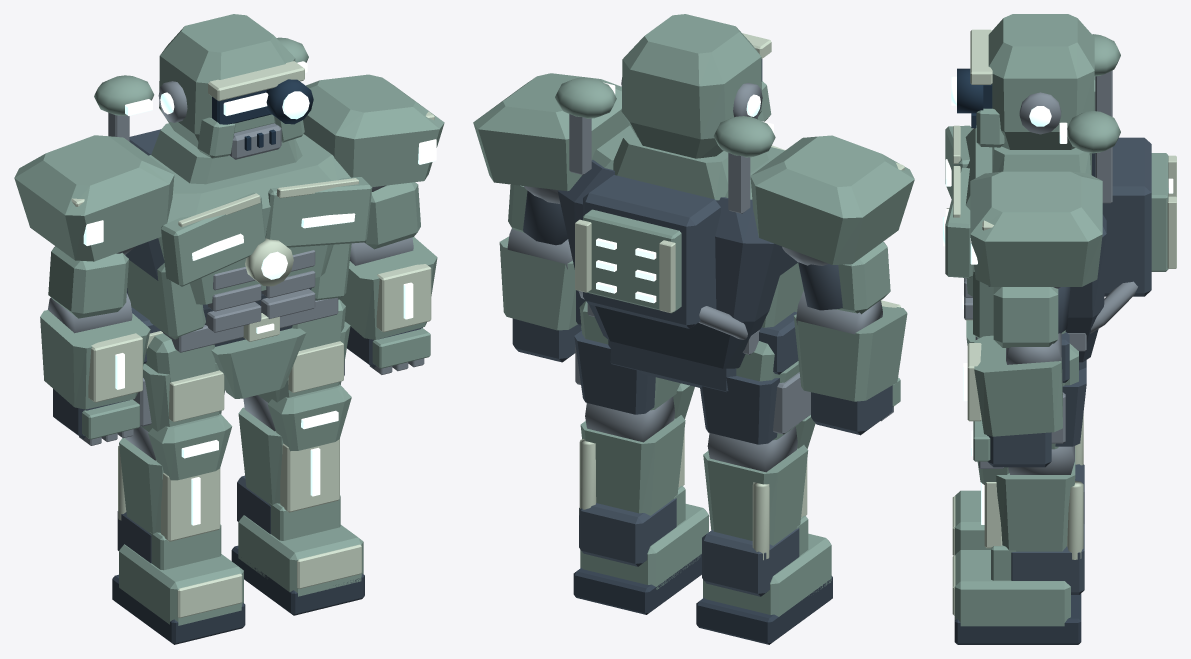
Rendered from bot_sentinel.glb.
3 views of the same model, side by side, from view 1: azimuth 30°, elevation 25°; view 2: azimuth 150°, elevation 25°; view 3: azimuth 270°, elevation 25° (orthographic). The views are drawn at different scales.
Visible parts, largest first — view 1: shoulder_pauldron_63, shoulder_pauldron_78, helmet_94, thorax_carapace_2, pectoral_plate_13, pectoral_plate_3, forearm_bracer_69, boot_toe_31, boot_toe_47, upper_arm_plate_67, codpiece_24, neck_guard_collar_93 (+51 smaller); view 2: shoulder_pauldron_63, helmet_94, torso_1, shoulder_pauldron_78, reactor_pack_108, forearm_bracer_69, shin_armor_51, shin_armor_35, reactor_armored_cover_109, forearm_bracer_84, neck_guard_collar_93, boot_ankle_49 (+33 smaller); view 3: shoulder_pauldron_78, helmet_94, reactor_pack_108, forearm_bracer_84, boot_toe_47, shin_armor_51, upper_arm_plate_82, boot_sole_46, boot_ankle_49, torso_1, neck_guard_collar_93, pectoral_plate_13 (+29 smaller).
Part boxes in pixels (x1=…): shoulder_pauldron_63: x1=14, y1=135, x2=174, y2=261; shoulder_pauldron_78: x1=303, y1=74, x2=444, y2=187; helmet_94: x1=159, y1=14, x2=295, y2=147; thorax_carapace_2: x1=149, y1=134, x2=350, y2=304; pectoral_plate_13: x1=265, y1=177, x2=372, y2=247; pectoral_plate_3: x1=161, y1=192, x2=265, y2=286; forearm_bracer_69: x1=40, y1=310, x2=150, y2=409; boot_toe_31: x1=119, y1=544, x2=243, y2=625; boot_toe_47: x1=238, y1=515, x2=363, y2=596; upper_arm_plate_67: x1=48, y1=246, x2=128, y2=318; codpiece_24: x1=211, y1=328, x2=306, y2=398; neck_guard_collar_93: x1=151, y1=123, x2=302, y2=184; shoulder_pauldron_63: x1=750, y1=135, x2=914, y2=264; helmet_94: x1=621, y1=14, x2=762, y2=158; torso_1: x1=557, y1=160, x2=797, y2=368; shoulder_pauldron_78: x1=473, y1=73, x2=629, y2=191; reactor_pack_108: x1=583, y1=175, x2=720, y2=328; forearm_bracer_69: x1=794, y1=306, x2=907, y2=401; shin_armor_51: x1=580, y1=415, x2=685, y2=515; shin_armor_35: x1=703, y1=445, x2=808, y2=545; reactor_armored_cover_109: x1=583, y1=209, x2=681, y2=313; forearm_bracer_84: x1=499, y1=236, x2=577, y2=330; neck_guard_collar_93: x1=613, y1=131, x2=768, y2=200; boot_ankle_49: x1=579, y1=498, x2=676, y2=566; shoulder_pauldron_78: x1=970, y1=171, x2=1102, y2=286; helmet_94: x1=988, y1=14, x2=1094, y2=149; reactor_pack_108: x1=1092, y1=137, x2=1151, y2=296; forearm_bracer_84: x1=974, y1=335, x2=1062, y2=436; boot_toe_47: x1=954, y1=550, x2=1070, y2=626; shin_armor_51: x1=996, y1=448, x2=1075, y2=551; upper_arm_plate_82: x1=993, y1=287, x2=1058, y2=347; boot_sole_46: x1=954, y1=593, x2=1081, y2=644; boot_ankle_49: x1=1011, y1=524, x2=1084, y2=594; torso_1: x1=988, y1=214, x2=1106, y2=362; neck_guard_collar_93: x1=992, y1=146, x2=1091, y2=175; pectoral_plate_13: x1=945, y1=167, x2=973, y2=278.
Bounding box in the file's own units: 1.68 × 2.37 × 0.8835.
